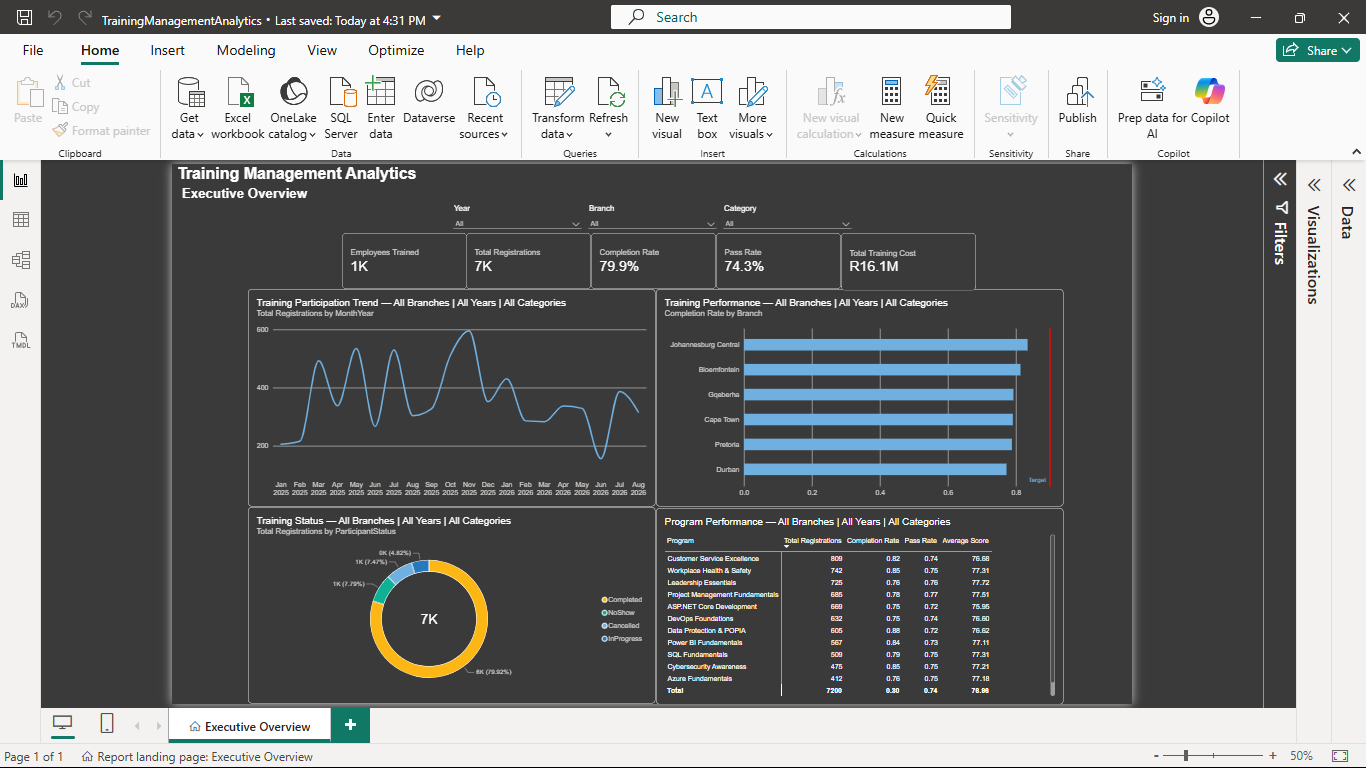

This screenshot's page, from the dashboard's own definition file:
{"tool":"powerbi","page":{"name":"Executive Overview","canvas":[1920,1080],"ordinal":0},"visuals":[{"type":"textbox","box":[10,0,496,44],"z":0},{"type":"textbox","box":[10,44,270,46],"z":1000},{"type":"slicer","fields":{"Values":["DimDate.Year"]},"box":[555,80,270,55],"z":2000},{"type":"slicer","fields":{"Values":["DimBranch.BranchName"]},"box":[825,80,270,55],"z":3000},{"type":"slicer","fields":{"Values":["DimProgram.Category"]},"box":[1095,80,270,55],"z":4000},{"type":"cardVisual","fields":{"Data":["FactTraining.Employees Trained"]},"box":[340,138,250,112],"z":5000},{"type":"cardVisual","fields":{"Data":["FactTraining.Total Registrations"]},"box":[588,138,250,112],"z":6000},{"type":"cardVisual","fields":{"Data":["FactTraining.Completion Rate"]},"box":[838,138,250,112],"z":7000},{"type":"cardVisual","fields":{"Data":["FactTraining.Pass Rate"]},"box":[1088,138,250,112],"z":8000},{"type":"lineChart","fields":{"Category":["DimDate.MonthYear"],"Y":["FactTraining.Total Registrations"]},"box":[152.5,250,815,435],"z":9000},{"type":"clusteredBarChart","fields":{"Category":["DimBranch.BranchName"],"Y":["FactTraining.Completion Rate"]},"box":[967.5,250,815,435],"z":10000},{"type":"donutChart","fields":{"Category":["FactTraining.ParticipantStatus"],"Y":["FactTraining.Total Registrations"]},"box":[152.5,685,815,392.5],"z":11000},{"type":"pivotTable","fields":{"Rows":["DimProgram.ProgramName"],"Values":["FactTraining.Total Registrations","FactTraining.Completion Rate","FactTraining.Pass Rate","FactTraining.Average Score"]},"box":[967.5,687.5,815,392.5],"z":12000},{"type":"cardVisual","fields":{"Data":["FactTraining.Total Training Cost"]},"box":[1338,136,270,115],"z":13000}]}

Visuals, with their boxes on the page's 1920x1080 design canvas (x1, y1, x2, y2). These are canvas units, not pixel positions in the 1366x768 screenshot, which may show the page scaled, cropped or inside an application window:
textbox: left=10, top=0, right=506, bottom=44
textbox: left=10, top=44, right=280, bottom=90
slicer - DimDate.Year: left=555, top=80, right=825, bottom=135
slicer - DimBranch.BranchName: left=825, top=80, right=1095, bottom=135
slicer - DimProgram.Category: left=1095, top=80, right=1365, bottom=135
cardVisual - FactTraining.Employees Trained: left=340, top=138, right=590, bottom=250
cardVisual - FactTraining.Total Registrations: left=588, top=138, right=838, bottom=250
cardVisual - FactTraining.Completion Rate: left=838, top=138, right=1088, bottom=250
cardVisual - FactTraining.Pass Rate: left=1088, top=138, right=1338, bottom=250
lineChart - DimDate.MonthYear x FactTraining.Total Registrations: left=152, top=250, right=968, bottom=685
clusteredBarChart - DimBranch.BranchName x FactTraining.Completion Rate: left=968, top=250, right=1782, bottom=685
donutChart - FactTraining.ParticipantStatus x FactTraining.Total Registrations: left=152, top=685, right=968, bottom=1078
pivotTable - DimProgram.ProgramName x FactTraining.Total Registrations: left=968, top=688, right=1782, bottom=1080
cardVisual - FactTraining.Total Training Cost: left=1338, top=136, right=1608, bottom=251
